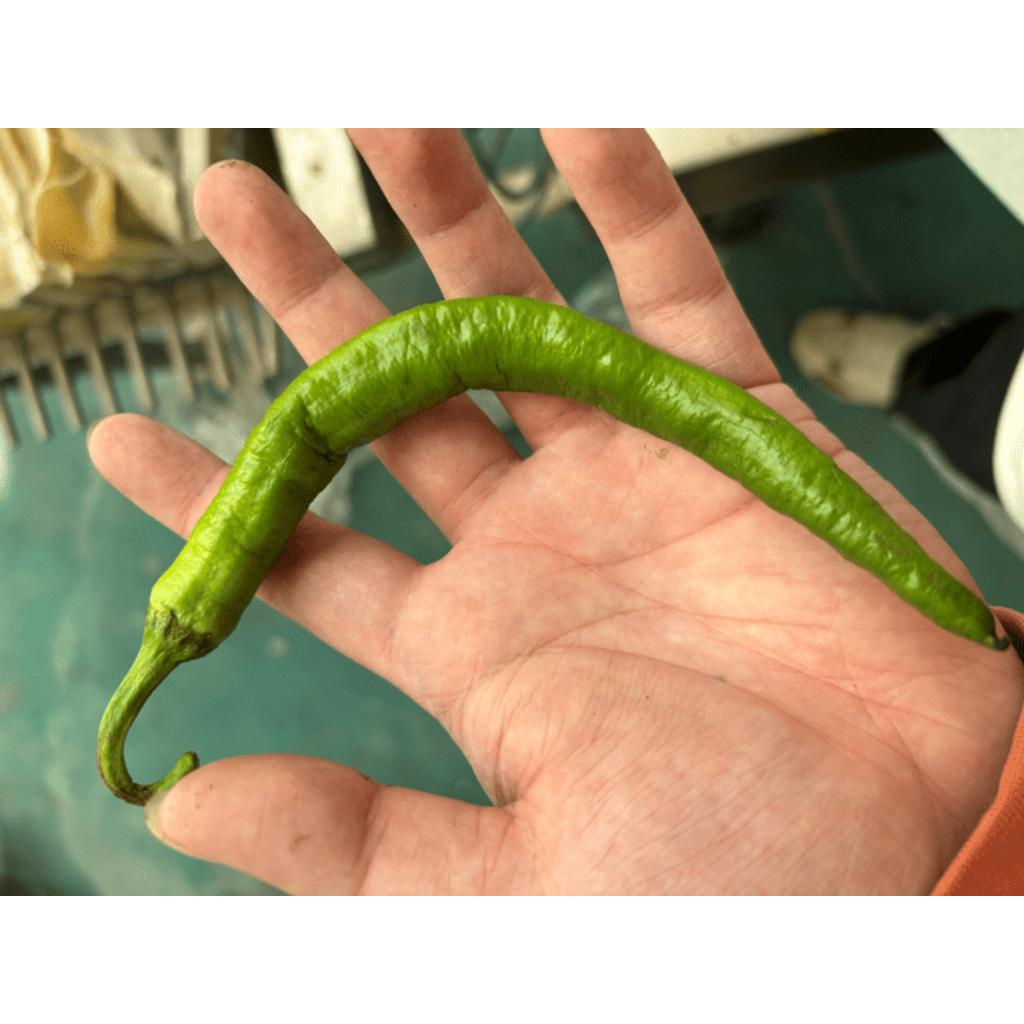chili: (142, 292, 1013, 666)
